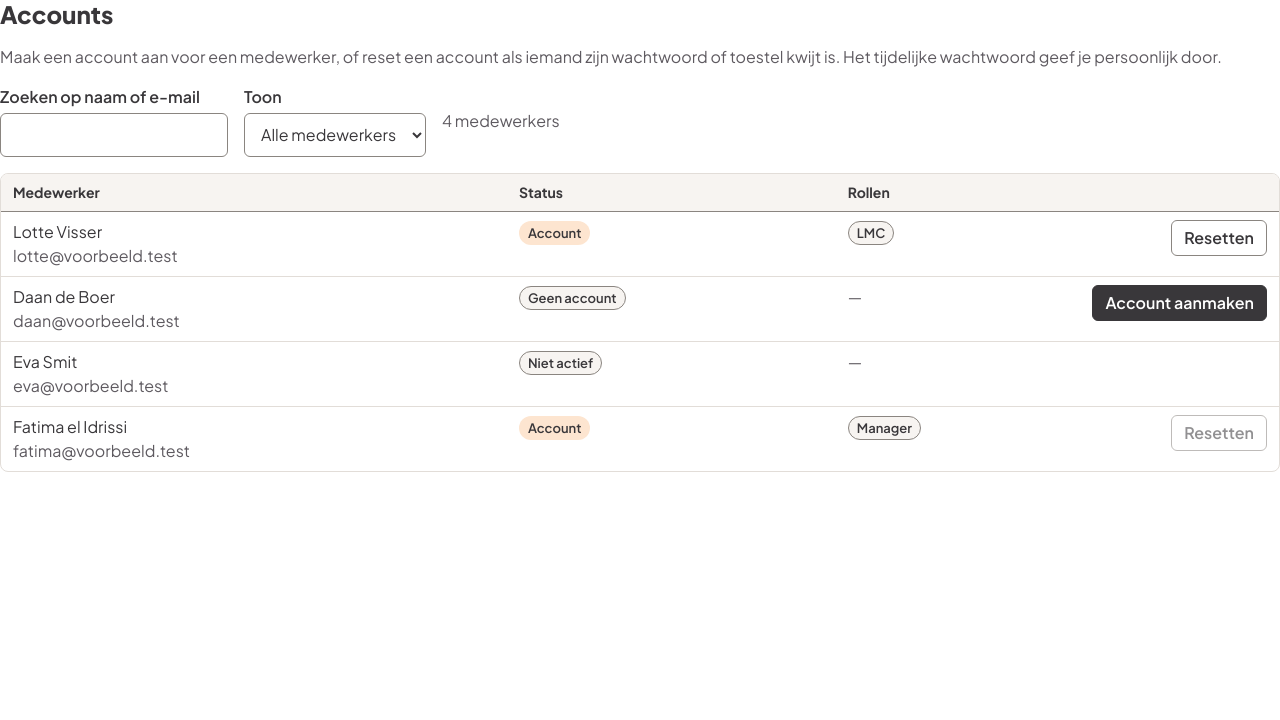
Test: Accounts: aanmaken en wachtwoordstap › wachtwoordstap: kopiëren met bevestiging, sluiten vraagt eerst, daarna is het weg
Check: the table is shown, box [1,174,1279,471]
Click the button with aria-label "Account aanmaken voor Daan de Boer": click(1180, 303) [1092,285,1267,321]
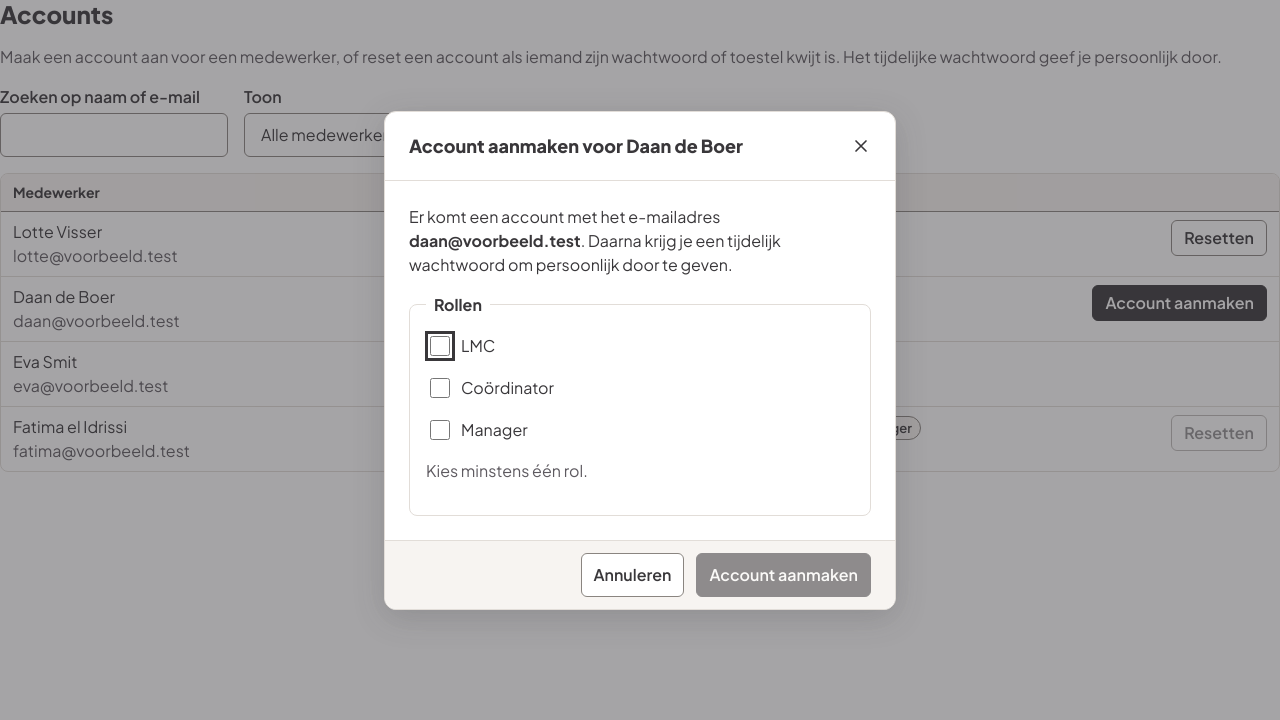
Click the checkbox labelled "LMC": click(440, 346) [430,336,450,356]
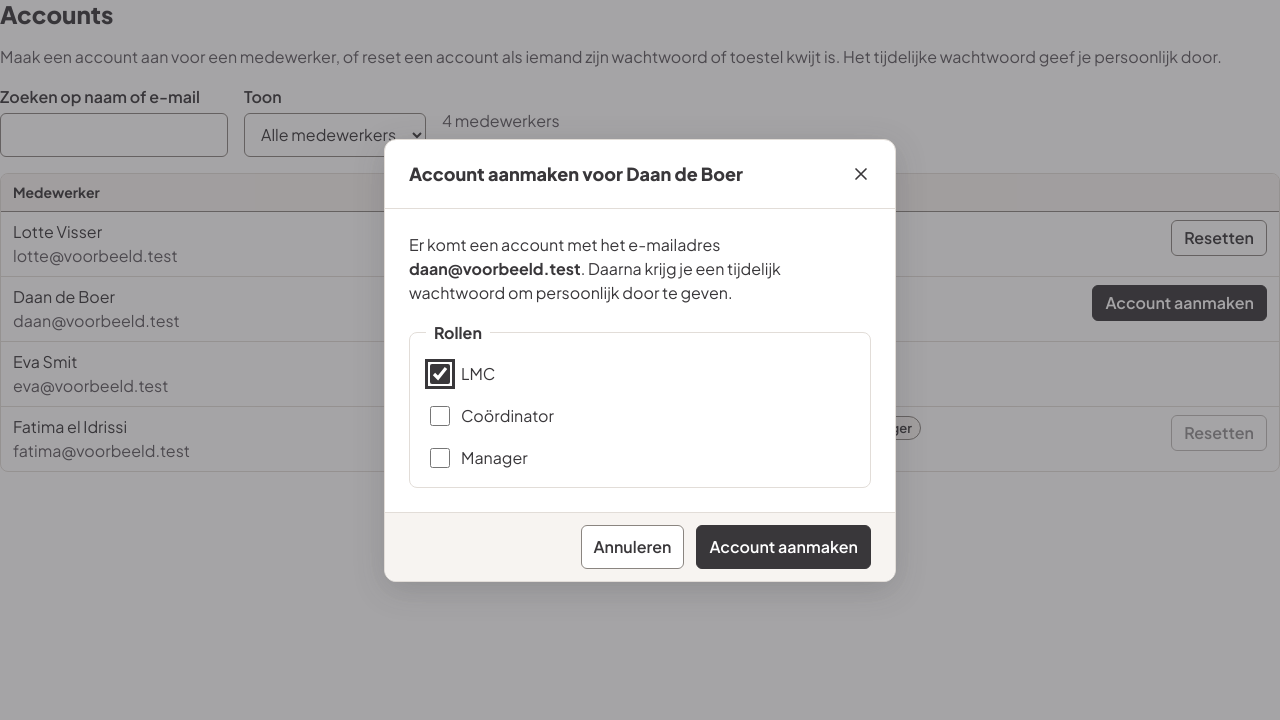
Click the button "Account aanmaken": click(784, 546) [696,524,871,568]
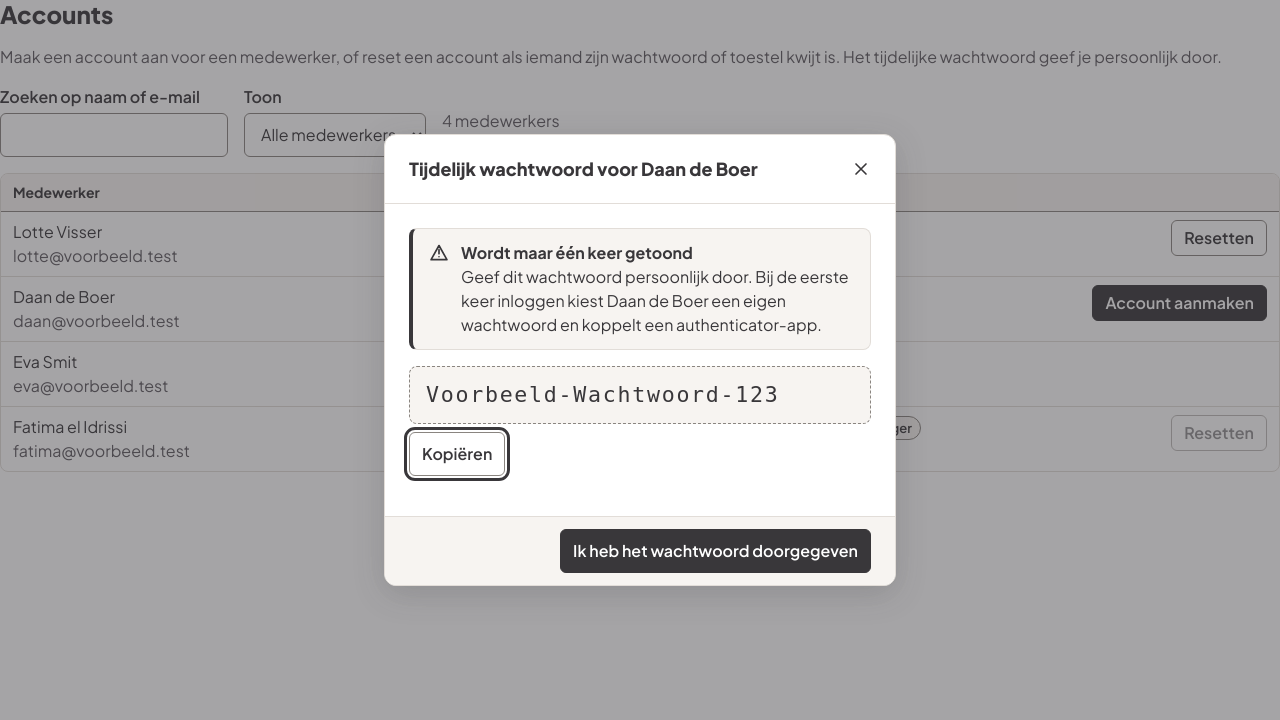
Check: the dialog "Tijdelijk wachtwoord" shows "Voorbeeld-Wachtwoord-123", box [426,382,780,407]
Click the button "Kopiëren": click(457, 454) [409,432,505,476]
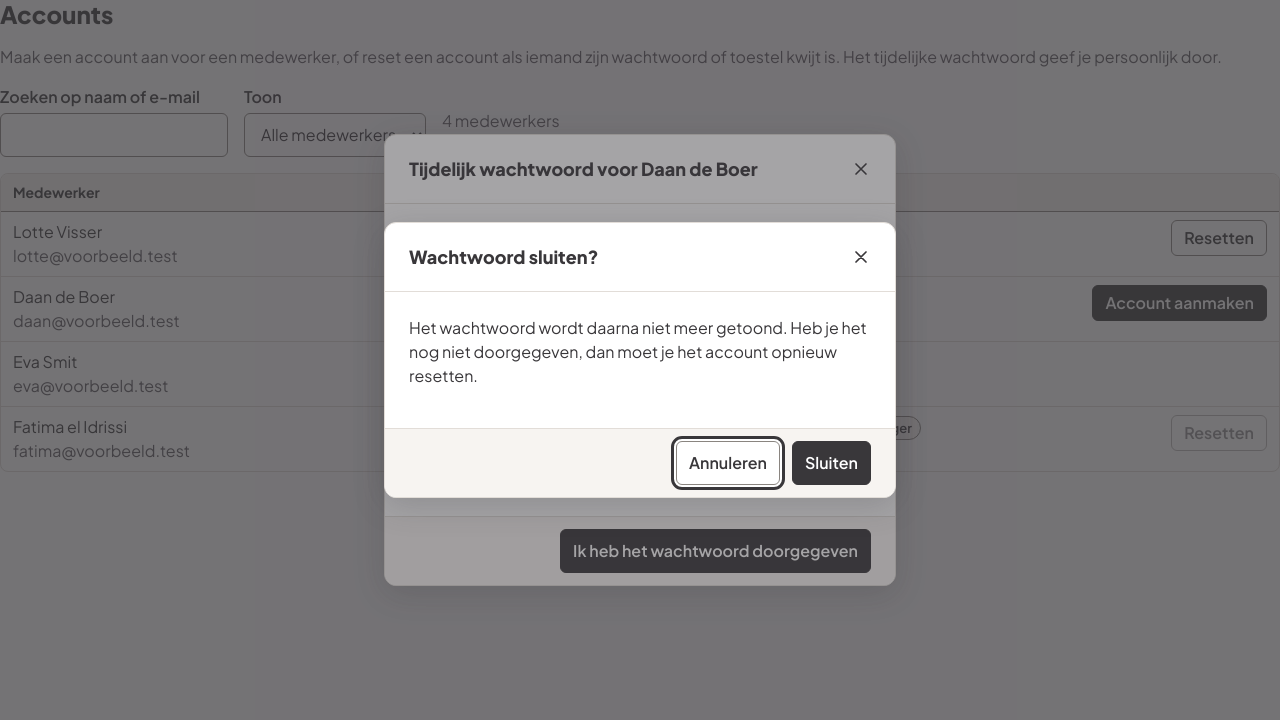
Click the button "Annuleren": click(728, 463) [676,441,780,485]
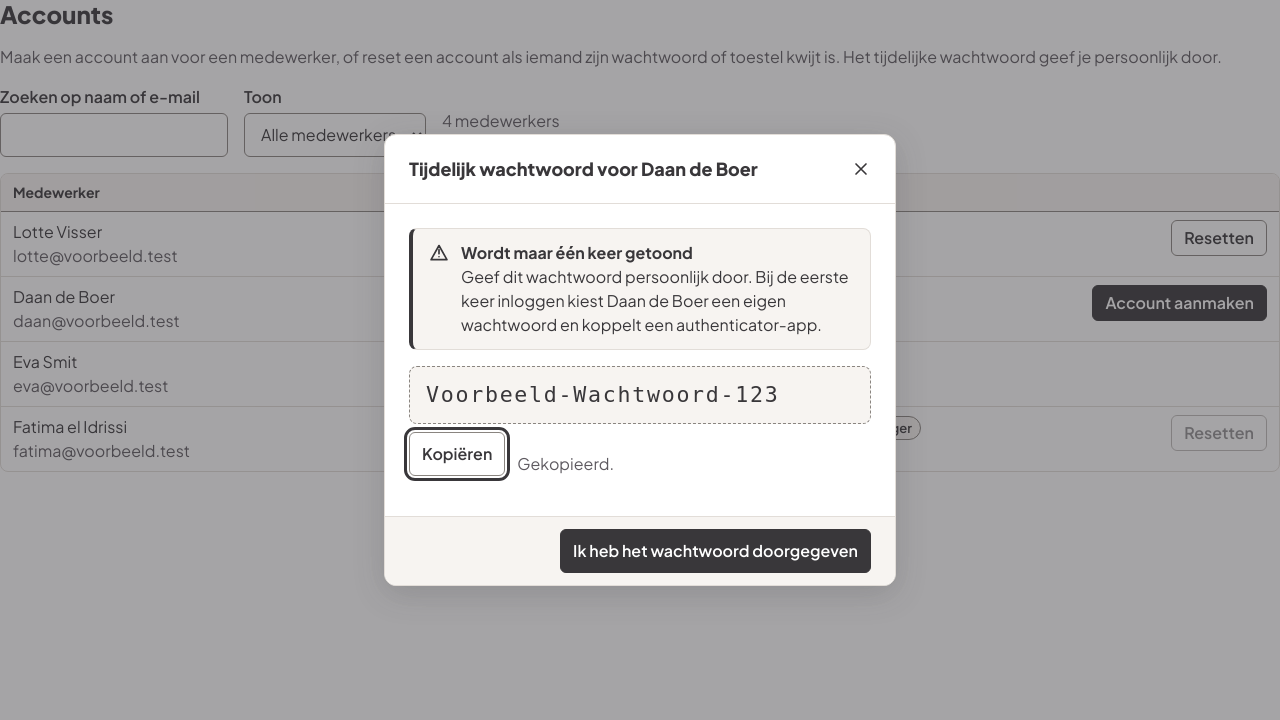
Check: the text "Voorbeeld-Wachtwoord-123" is shown, box [426,382,780,407]
Click the button "Ik heb het wachtwoord doorgegeven": click(716, 551) [560,529,871,573]
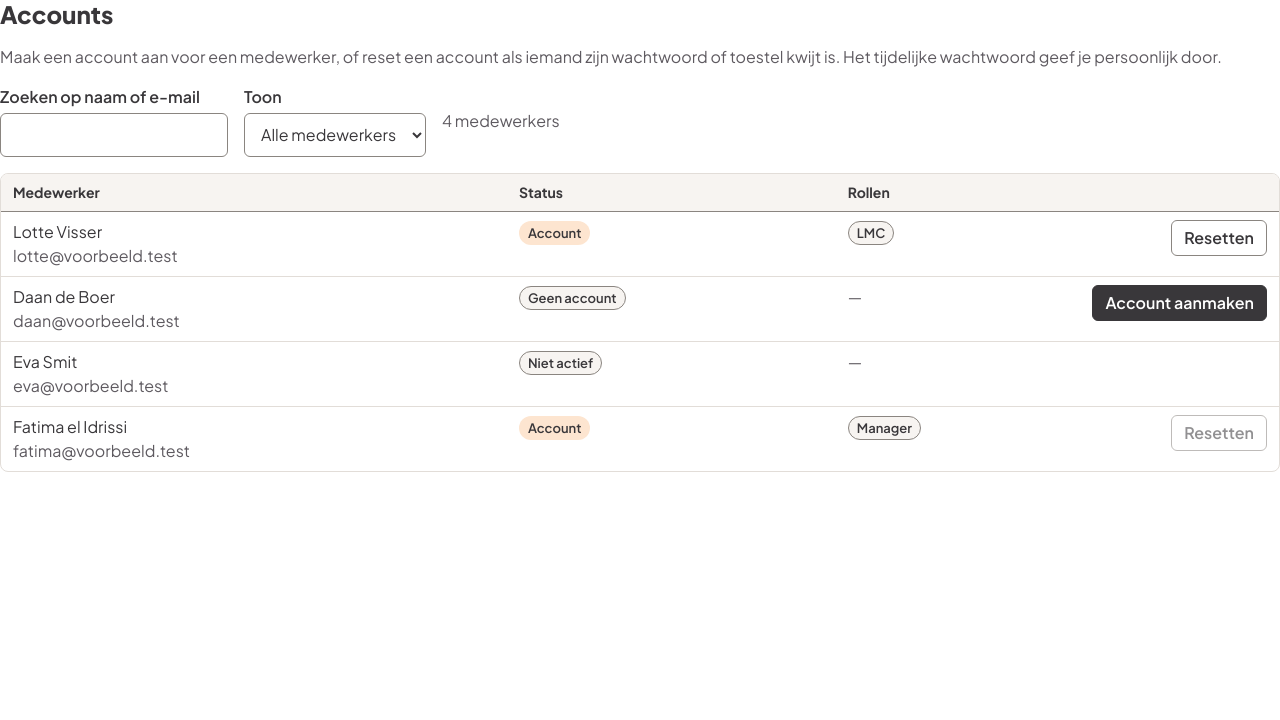
Check: the text "Voorbeeld-Wachtwoord-123" is gone
